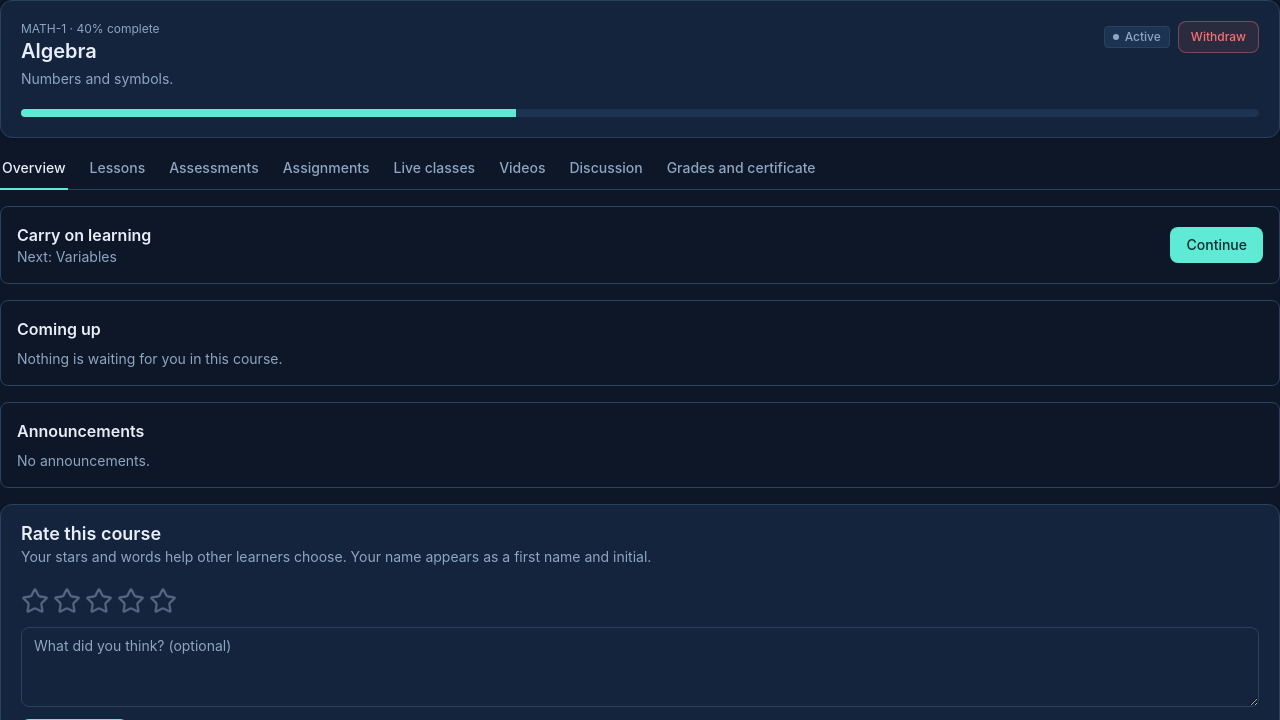
it: grades and certificate › shows the course grades row by row and the certificate with a way to verify it
The width and height of the screenshot is (1280, 720).
Click the tab "Grades and certificate". click: [741, 172]
box: [665,154,818,190]
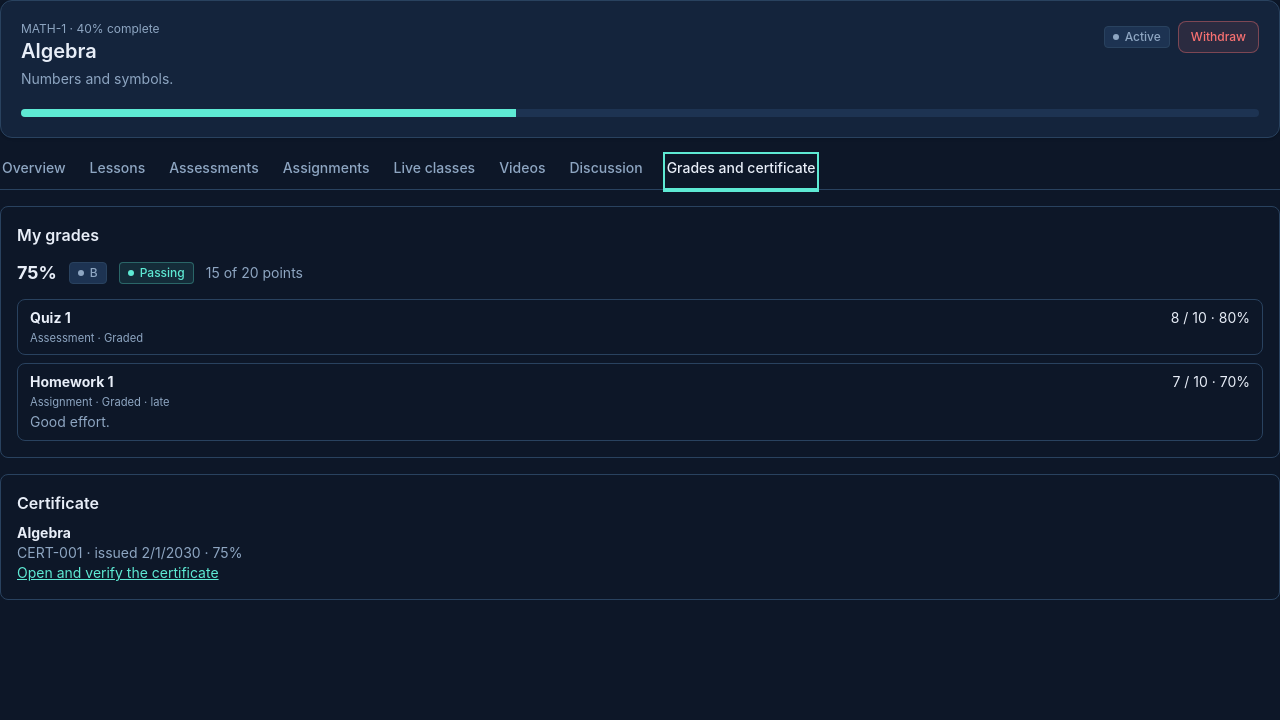
Now the text "75%" is shown, box [17,259,57,287]
Now the text "B" is shown, box [69,262,107,284]
Now the text "Passing" is shown, box [119,262,194,284]
